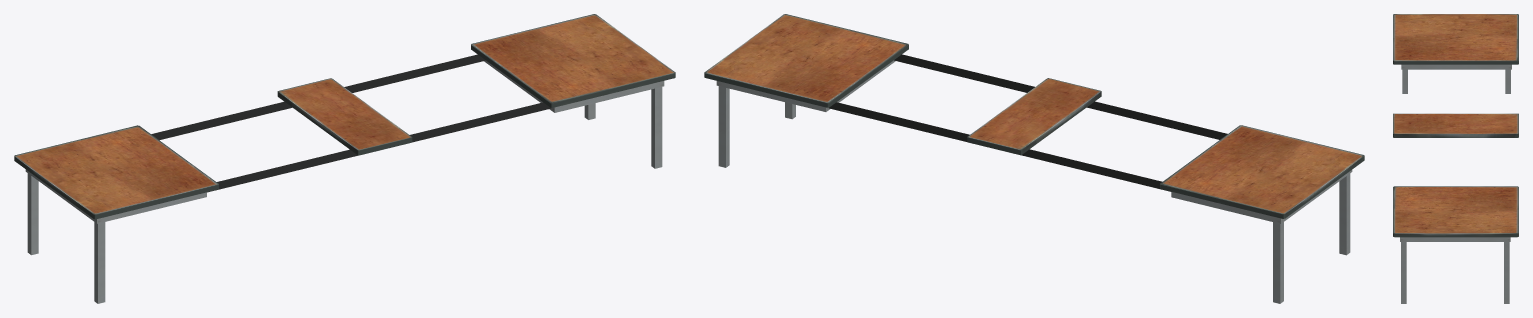
The model's file is tableMain.fbx.
3 renders of one model, left to right at view 1: azimuth 30°, elevation 25°; view 2: azimuth 150°, elevation 25°; view 3: azimuth 270°, elevation 25°, orthographic. The views are drawn at different scales.
Parts seen in each view (by area): view 1: tableEnd1, tableEnd3, tableInsert, tableStruts; view 2: tableEnd1, tableEnd3, tableInsert, tableStruts; view 3: tableEnd3, tableEnd1, tableInsert.
Boxes of the visible parts, x1,y1,x2,y2 form: tableEnd1: (14,125,218,303); tableEnd3: (471,14,675,168); tableInsert: (277,78,412,155); tableStruts: (151,54,551,192); tableEnd1: (1160,125,1364,303); tableEnd3: (704,14,908,167); tableInsert: (967,78,1101,155); tableStruts: (829,54,1227,191); tableEnd3: (1393,186,1518,303); tableEnd1: (1393,14,1518,93); tableInsert: (1393,113,1518,137).
Size of the model in its own units: 673 by 105 by 163.
